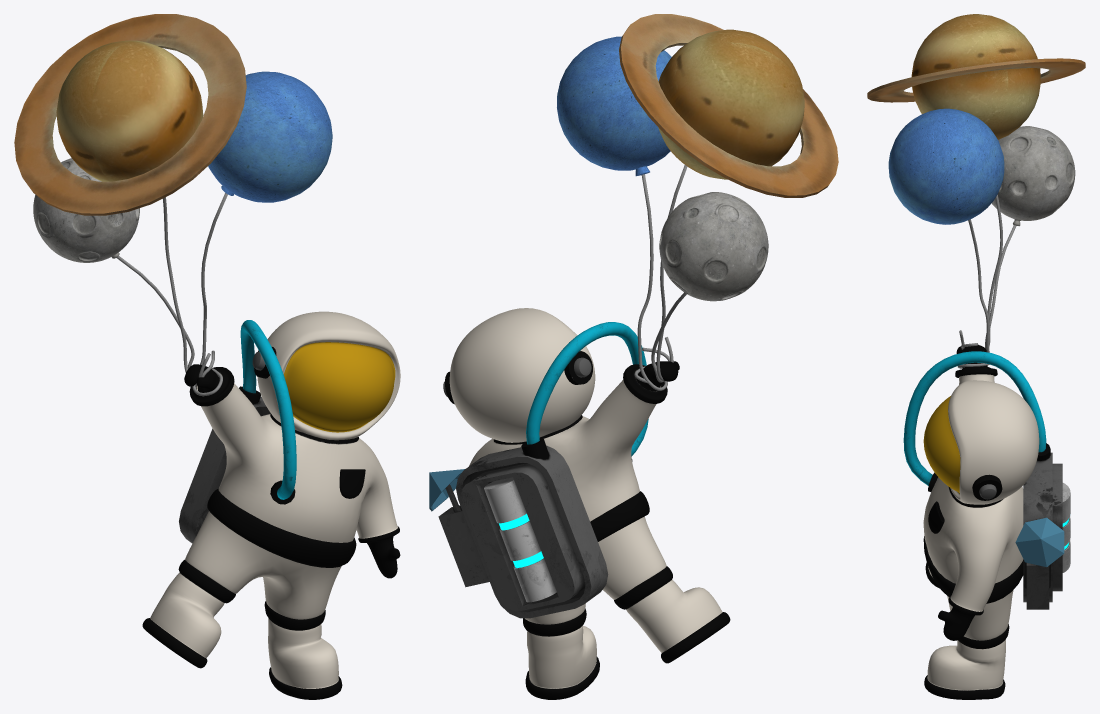
Rendered from astronot.glb.
The picture shows the model from 3 angles, left to right: view 1: azimuth 30°, elevation 25°; view 2: azimuth 150°, elevation 25°; view 3: azimuth 270°, elevation 25°; orthographic projection. The views are drawn at different scales.
Parts seen in each view (by area): view 1: Sphere, Cube.001, Cube, Sphere.002, Cube.002, Sphere.001, Cube.004, NurbsPath, Cube.003, NurbsPath.001, Cube.005; view 2: Sphere, Cube.003, Cube, Cube.001, Cube.002, Sphere.002, Sphere.001, Cylinder.002, NurbsPath, NurbsPath.001, Cube.004, Cylinder.001 (+1 smaller); view 3: Sphere, Cube, Cube.001, Sphere.002, Sphere.001, Cube.002, Cube.003, NurbsPath, Cone, NurbsPath.001, Cube.004, Cylinder.002 (+2 smaller).
Boxes of the visible parts, <box> form: Sphere: <box>14,14,246,215</box>; Cube.001: <box>185,367,399,619</box>; Cube: <box>184,311,400,578</box>; Sphere.002: <box>208,71,332,202</box>; Cube.002: <box>142,559,342,699</box>; Sphere.001: <box>33,158,139,262</box>; Cube.004: <box>207,488,356,567</box>; NurbsPath: <box>240,320,296,499</box>; Cube.003: <box>179,396,270,543</box>; NurbsPath.001: <box>116,193,227,396</box>; Cube.005: <box>339,469,365,498</box>; Sphere: <box>619,14,838,197</box>; Cube.003: <box>438,445,608,618</box>; Cube: <box>449,308,679,442</box>; Cube.001: <box>469,364,667,624</box>; Cube.002: <box>523,566,730,699</box>; Sphere.002: <box>557,36,671,176</box>; Sphere.001: <box>659,192,768,301</box>; Cylinder.002: <box>484,477,556,602</box>; NurbsPath: <box>526,322,648,456</box>; NurbsPath.001: <box>634,165,687,390</box>; Cube.004: <box>590,491,649,541</box>; Cylinder.001: <box>443,351,592,404</box>; Sphere: <box>867,14,1085,139</box>; Cube: <box>923,345,1039,640</box>; Cube.001: <box>923,366,1023,640</box>; Sphere.002: <box>888,108,1004,224</box>; Sphere.001: <box>991,126,1075,226</box>; Cube.002: <box>924,562,1009,699</box>; Cube.003: <box>1023,452,1062,609</box>; NurbsPath: <box>903,351,1046,485</box>; Cone: <box>1015,517,1064,567</box>; NurbsPath.001: <box>957,194,1016,368</box>; Cube.004: <box>923,536,1023,603</box>; Cylinder.002: <box>1062,483,1070,572</box>.
Bounding box in the file's own units: 1008 × 1796 × 593.
15 materials, 15 textured.
